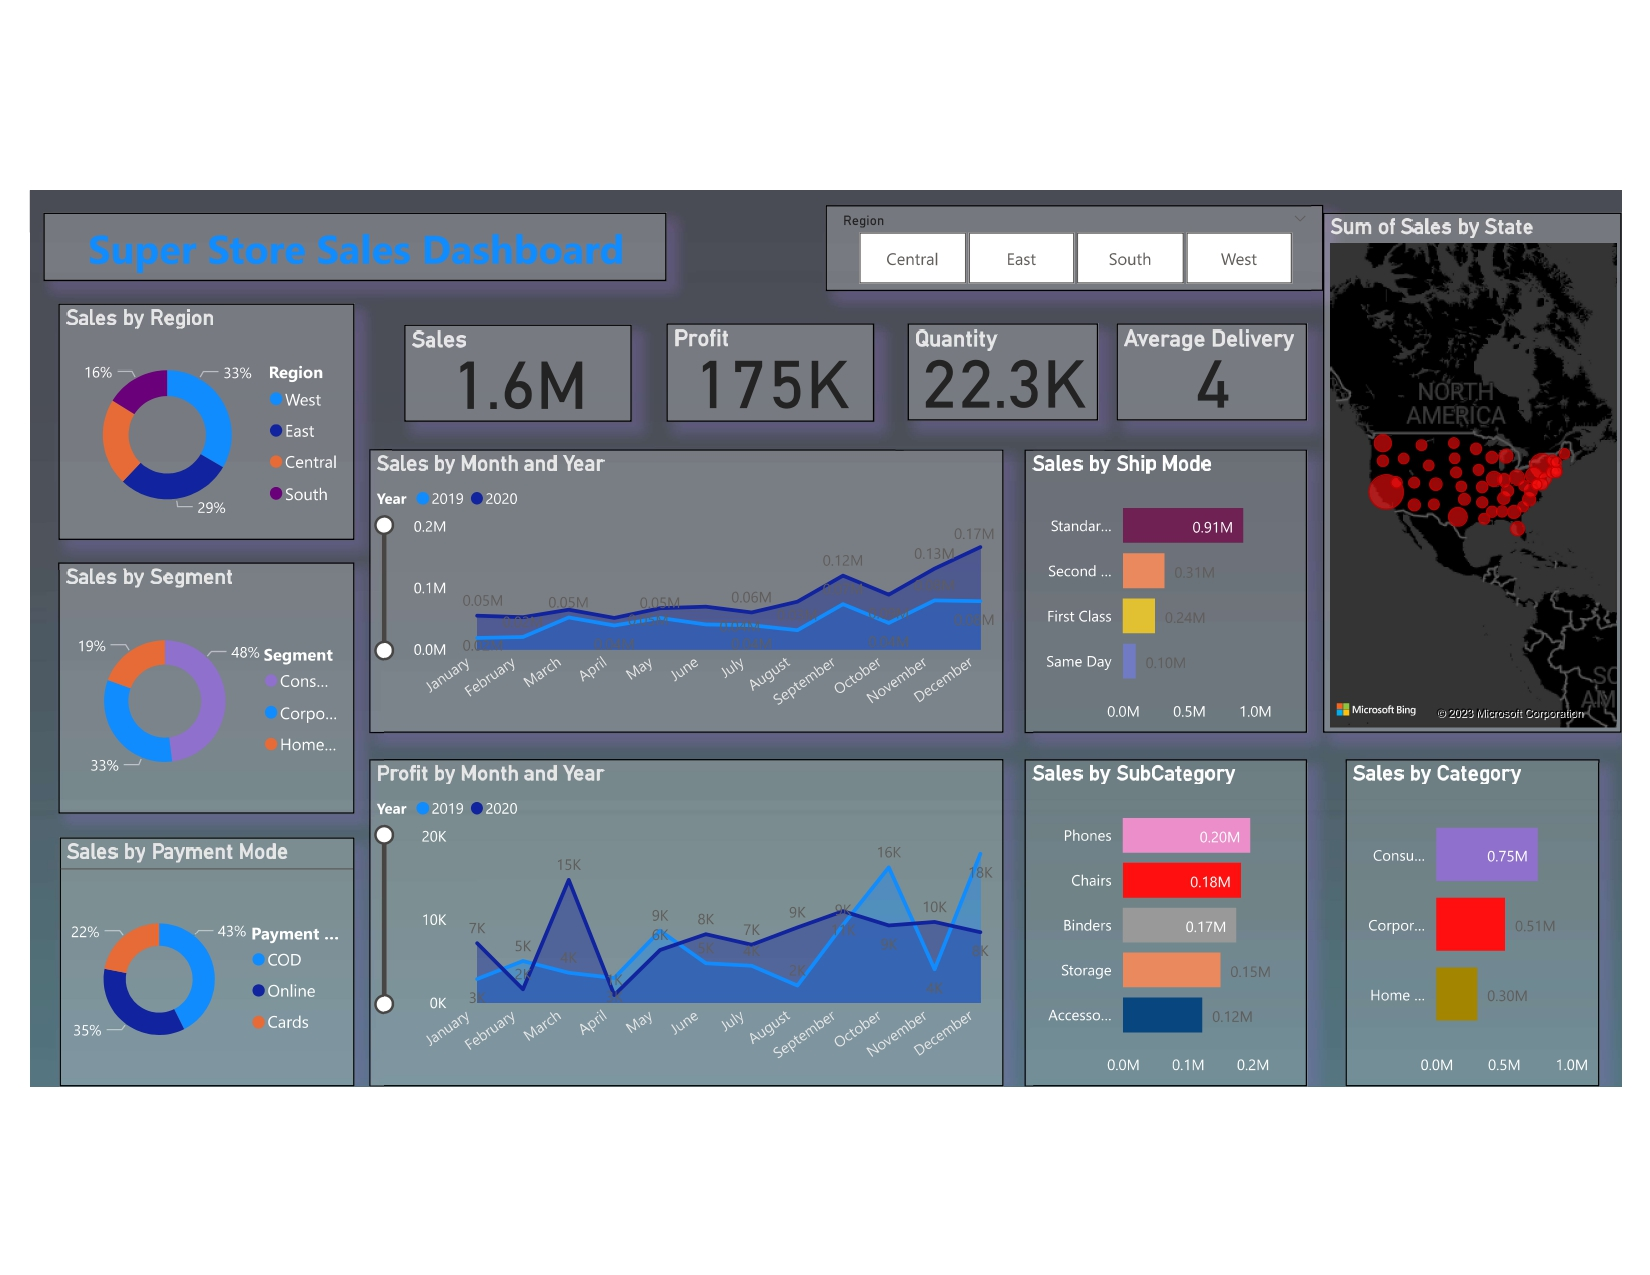

The dashboard page shown, as its layout file describes it:
{"tool":"powerbi","page":{"name":"Page 1","canvas":[1280,720],"ordinal":0},"visuals":[{"type":"clusteredBarChart","title":"Sales by Category","fields":{"Y":["Sum(SuperStore_Sales_Dataset.Sales)"],"Category":["SuperStore_Sales_Dataset.Segment"]},"box":[1057.7,456.6,204,263.4],"z":0},{"type":"clusteredBarChart","title":"Sales by  SubCategory","fields":{"Y":["Sum(SuperStore_Sales_Dataset.Sales)"],"Category":["SuperStore_Sales_Dataset.Sub-Category"]},"box":[799.7,456.6,226.9,263.4],"z":1},{"type":"clusteredBarChart","title":"Sales by Ship Mode","fields":{"Y":["Sum(SuperStore_Sales_Dataset.Sales)"],"Category":["SuperStore_Sales_Dataset.Ship Mode"]},"box":[799.7,208,226.9,228.3],"z":2},{"type":"areaChart","title":" Sales by Month and Year","fields":{"Category":["SuperStore_Sales_Dataset.Order Date.Variation.Date Hierarchy.Month","SuperStore_Sales_Dataset.Order Date.Variation.Date Hierarchy.Day"],"Y":["Sum(SuperStore_Sales_Dataset.Sales)"],"Series":["SuperStore_Sales_Dataset.Order Date.Variation.Date Hierarchy.Year"]},"box":[272.9,208,510.6,228.3],"z":3},{"type":"areaChart","title":" Profit by Month and Year","fields":{"Series":["SuperStore_Sales_Dataset.Order Date.Variation.Date Hierarchy.Year"],"Y":["Sum(SuperStore_Sales_Dataset.Profit)"],"Category":["SuperStore_Sales_Dataset.Order Date.Variation.Date Hierarchy.Month"]},"box":[272.9,456.6,510.6,263.4],"z":4},{"type":"map","fields":{"Size":["Sum(SuperStore_Sales_Dataset.Profit)"],"Category":["SuperStore_Sales_Dataset.State"]},"box":[1057.7,17.6,206.7,418.7],"z":5},{"type":"donutChart","title":" Sales by Segment","fields":{"Y":["Sum(SuperStore_Sales_Dataset.Sales)"],"Category":["SuperStore_Sales_Dataset.Segment"]},"box":[23,298.5,237.7,202.6],"z":6},{"type":"donutChart","title":"Sales by Payment Mode","fields":{"Y":["Sum(SuperStore_Sales_Dataset.Sales)"],"Category":["SuperStore_Sales_Dataset.Payment Mode"]},"box":[24.3,520.1,236.4,199.9],"z":7},{"type":"textbox","box":[10.8,17.6,501.1,55.4],"z":9},{"type":"card","title":"Sales","fields":{"Values":["Sum(SuperStore_Sales_Dataset.Sales)"]},"box":[301.2,108.1,182.4,78.3],"z":10},{"type":"card","title":"Profit","fields":{"Values":["Sum(SuperStore_Sales_Dataset.Profit)"]},"box":[511.9,106.7,167.5,79.7],"z":11},{"type":"card","title":"Quantity","fields":{"Values":["Sum(SuperStore_Sales_Dataset.Quantity)"]},"box":[706.5,106.7,152.6,78.3],"z":12},{"type":"card","title":"Average Delivery","fields":{"Values":["Avg(SuperStore_Sales_Dataset.Avgdelivery)"]},"box":[874,106.7,152.6,78.3],"z":13},{"type":"slicer","fields":{"Values":["SuperStore_Sales_Dataset.Region"]},"box":[640.3,12.2,399.8,68.9],"z":14},{"type":"donutChart","title":" Sales by Region","fields":{"Category":["SuperStore_Sales_Dataset.Region"],"Y":["Sum(SuperStore_Sales_Dataset.Sales)"]},"box":[23,90.5,237.7,190.5],"z":15}]}

Visuals, with their boxes in screenshot pixels (x1, y1, x2, y2):
"Sales by Category" clusteredBarChart: region(1357, 748, 1617, 1083)
"Sales by  SubCategory" clusteredBarChart: region(1030, 748, 1318, 1083)
"Sales by Ship Mode" clusteredBarChart: region(1030, 432, 1318, 722)
" Sales by Month and Year" areaChart: region(360, 432, 1009, 722)
" Profit by Month and Year" areaChart: region(360, 748, 1009, 1083)
map - Sum(SuperStore_Sales_Dataset.Profit) x SuperStore_Sales_Dataset.State: region(1357, 190, 1620, 722)
" Sales by Segment" donutChart: region(42, 547, 344, 805)
"Sales by Payment Mode" donutChart: region(44, 829, 344, 1083)
textbox: region(27, 190, 664, 260)
"Sales" card: region(396, 305, 628, 405)
"Profit" card: region(664, 303, 877, 405)
"Quantity" card: region(911, 303, 1105, 403)
"Average Delivery" card: region(1124, 303, 1318, 403)
slicer - SuperStore_Sales_Dataset.Region: region(827, 183, 1335, 271)
" Sales by Region" donutChart: region(42, 283, 344, 525)
